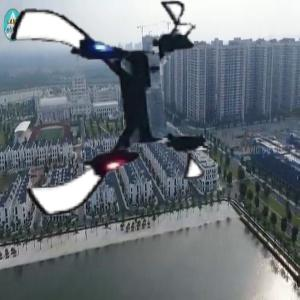drone: (2, 2, 216, 216)
